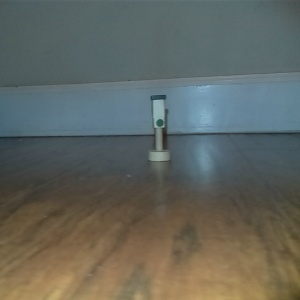traffic light green: (147, 93, 170, 162)
